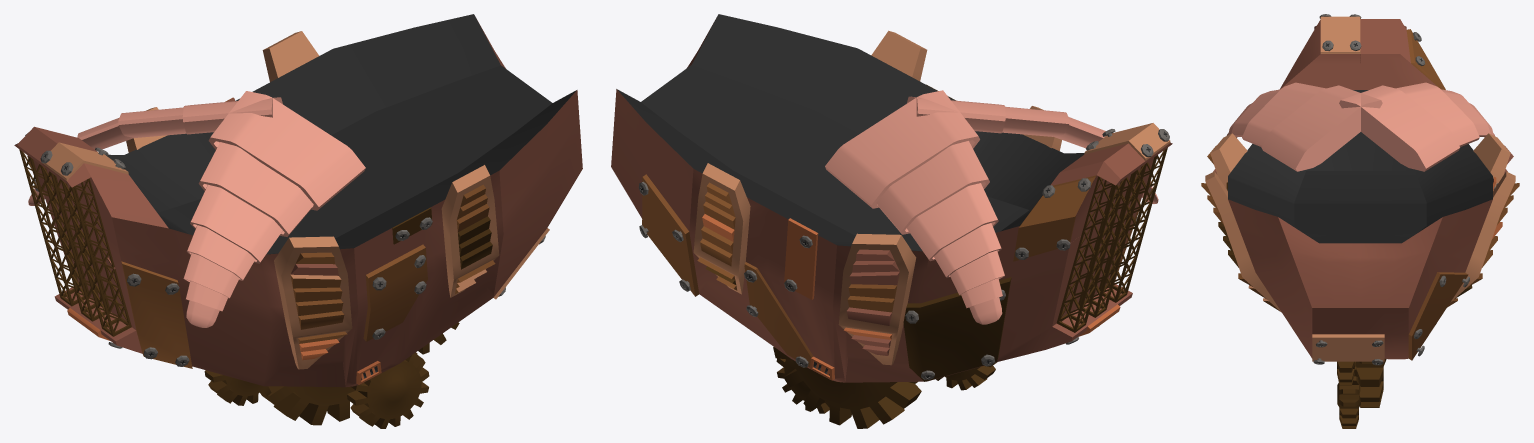
The model's file is Kaak Kameleon.fbx.
3 views of the same model, side by side, from view 1: azimuth 30°, elevation 25°; view 2: azimuth 150°, elevation 25°; view 3: azimuth 270°, elevation 25° (orthographic). The views are drawn at different scales.
Visible parts, largest first — view 1: Kaak.001; view 2: Kaak.001; view 3: Kaak.001.
Boxes of the visible parts, x1,y1,x2,y2 form: Kaak.001: [14, 14, 582, 428]; Kaak.001: [611, 14, 1172, 428]; Kaak.001: [1201, 14, 1519, 428].
Bounding box in the file's own units: 3572 × 2362 × 2404.
